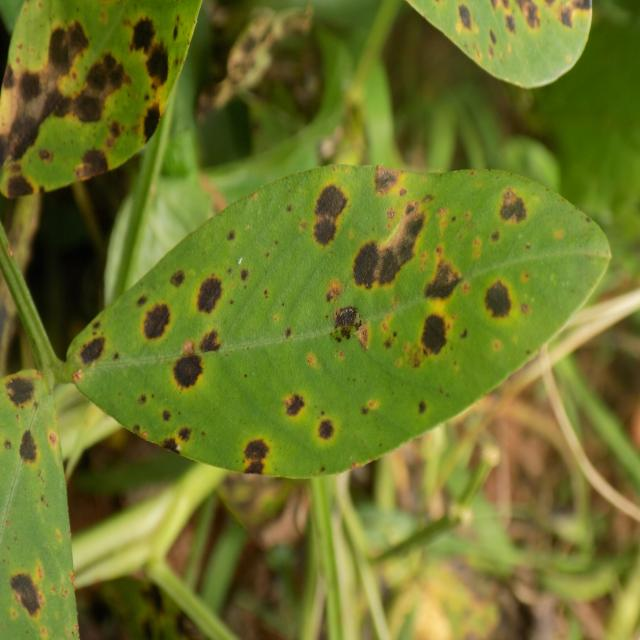Ground nut_tikka leaf spot: (61, 161, 617, 474)
